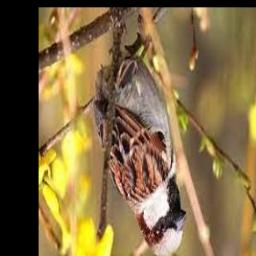Sparrow: (94, 37, 188, 256)
